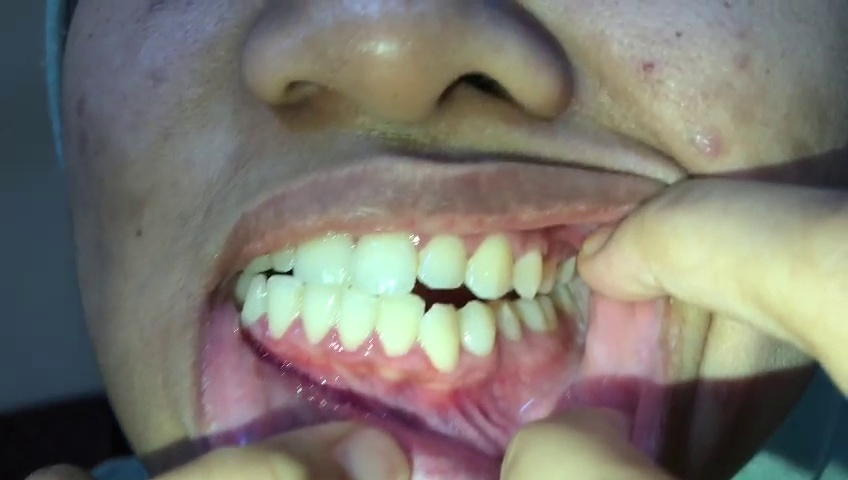1st Molar: (520, 295, 548, 333), (557, 256, 581, 285)
1st Premolar: (457, 299, 496, 356), (514, 242, 543, 303)
2nd Molar: (538, 298, 559, 331)
2nd Premolar: (494, 298, 522, 344), (539, 254, 553, 293)
3rd Molar: (553, 285, 574, 322)
Canine: (467, 231, 513, 301), (421, 299, 459, 373), (242, 272, 271, 330)
Central Incisor: (353, 228, 418, 295), (295, 221, 356, 288), (340, 288, 376, 354), (303, 284, 337, 346)
Lateral Incisor: (377, 294, 420, 357), (266, 274, 302, 342), (420, 236, 463, 289)
